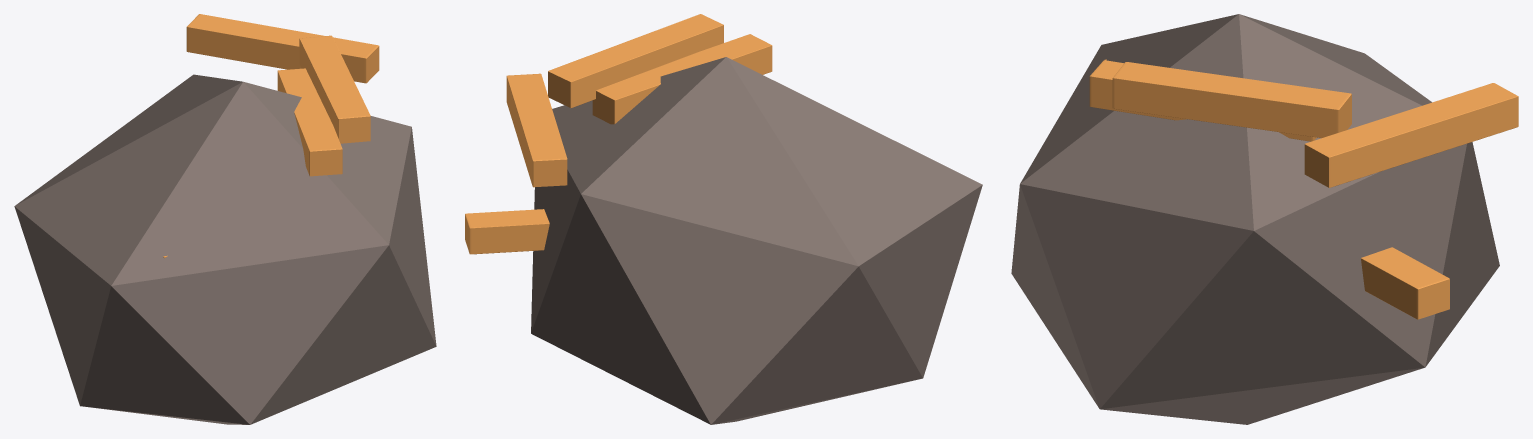
File: Bait_MeteorMeat.fbx
3 views of the same model, side by side, from view 1: azimuth 30°, elevation 25°; view 2: azimuth 150°, elevation 25°; view 3: azimuth 270°, elevation 25° (orthographic). The views are drawn at different scales.
Parts seen in each view (by area): view 1: RockDark.003, Lava.001; view 2: RockDark.003, Lava.001; view 3: RockDark.003, Lava.001.
Boxes of the visible parts, x1=… form: RockDark.003: x1=14, y1=74, x2=436, y2=424; Lava.001: x1=163, y1=14, x2=379, y2=258; RockDark.003: x1=531, y1=57, x2=982, y2=424; Lava.001: x1=465, y1=14, x2=772, y2=254; RockDark.003: x1=1011, y1=14, x2=1499, y2=424; Lava.001: x1=1089, y1=59, x2=1518, y2=319.
Size of the model in its own units: 1.51 by 1.35 by 1.49.
